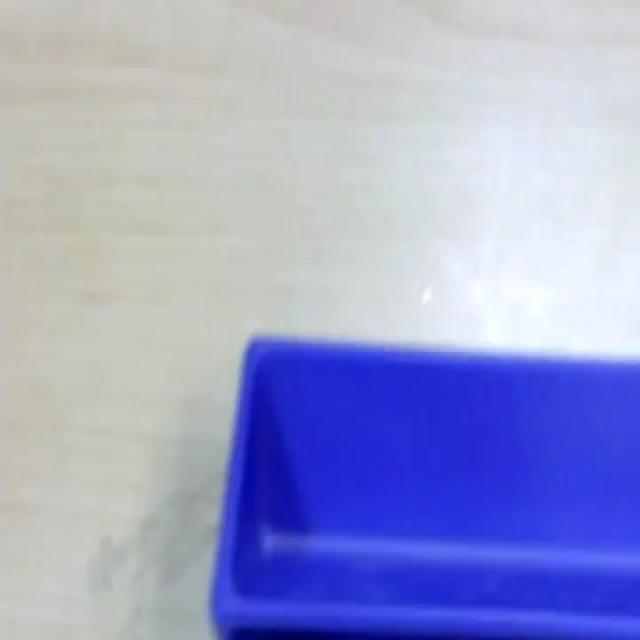blue_block: (209, 330, 639, 638)
